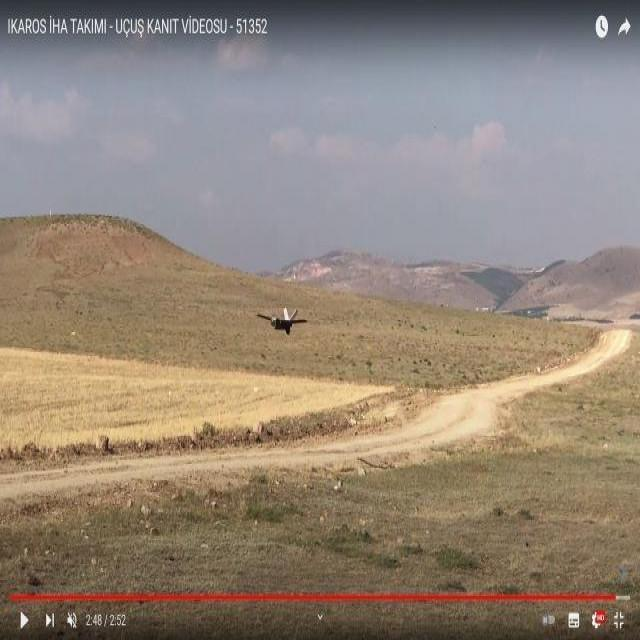Airplane: (256, 302, 308, 338)
